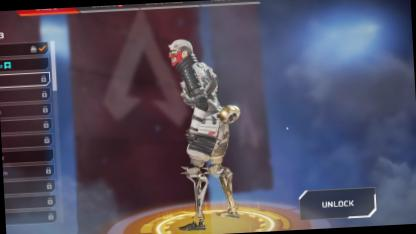Target: (166, 31, 245, 194)
